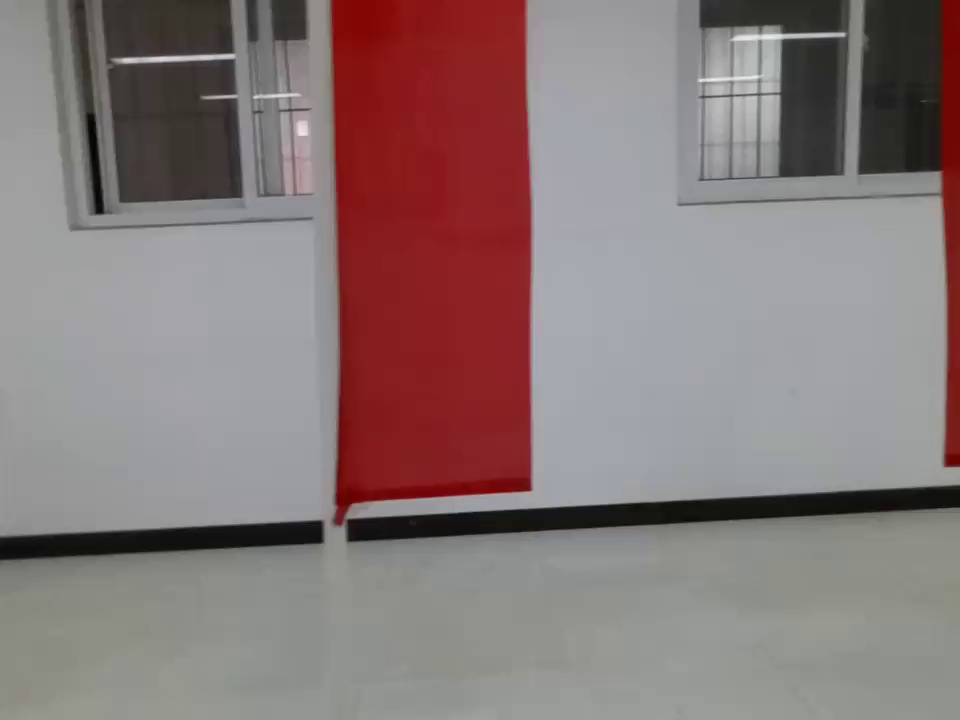qi: (324, 1, 535, 509)
